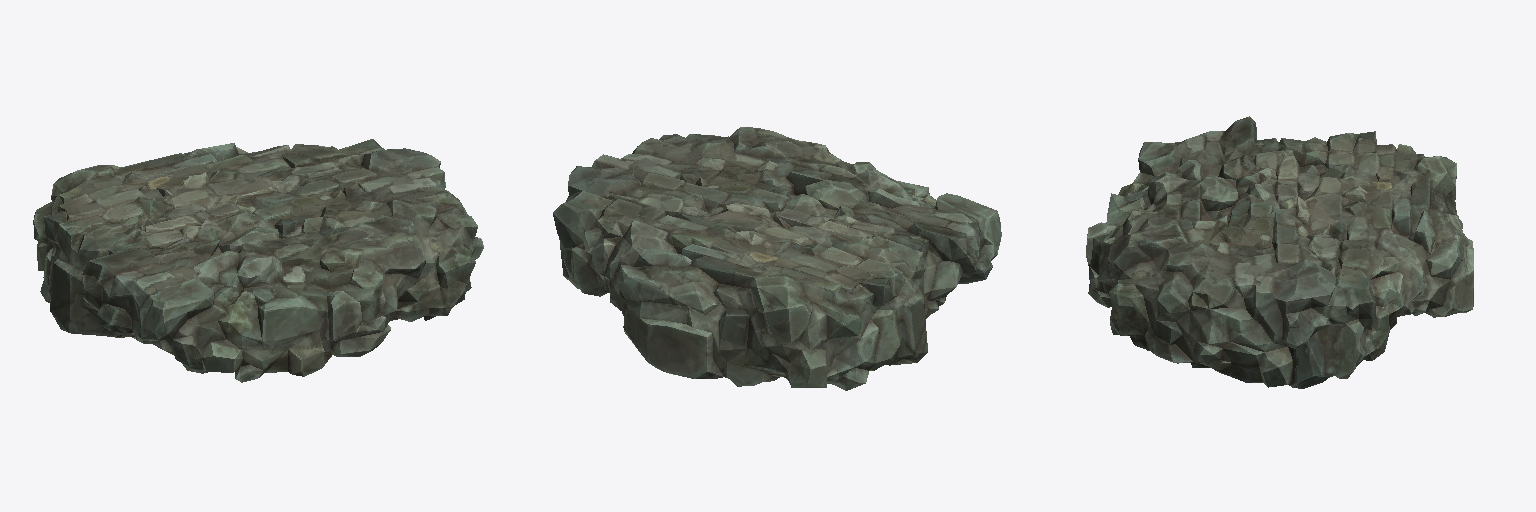
The picture shows the model from 3 angles: view 1: azimuth 30°, elevation 25°; view 2: azimuth 150°, elevation 25°; view 3: azimuth 270°, elevation 25°; orthographic projection.
Visible parts, largest first — view 1: Dn_HL_RuinsWall_B; view 2: Dn_HL_RuinsWall_B; view 3: Dn_HL_RuinsWall_B.
Part boxes in pixels (x1,y1,x2,y2): Dn_HL_RuinsWall_B: (33,139,483,382); Dn_HL_RuinsWall_B: (553,127,1001,390); Dn_HL_RuinsWall_B: (1086,116,1473,388).
Size of the model in its own units: 11.14 by 3.39 by 9.85.
Materials: 1 (1 with a texture image).